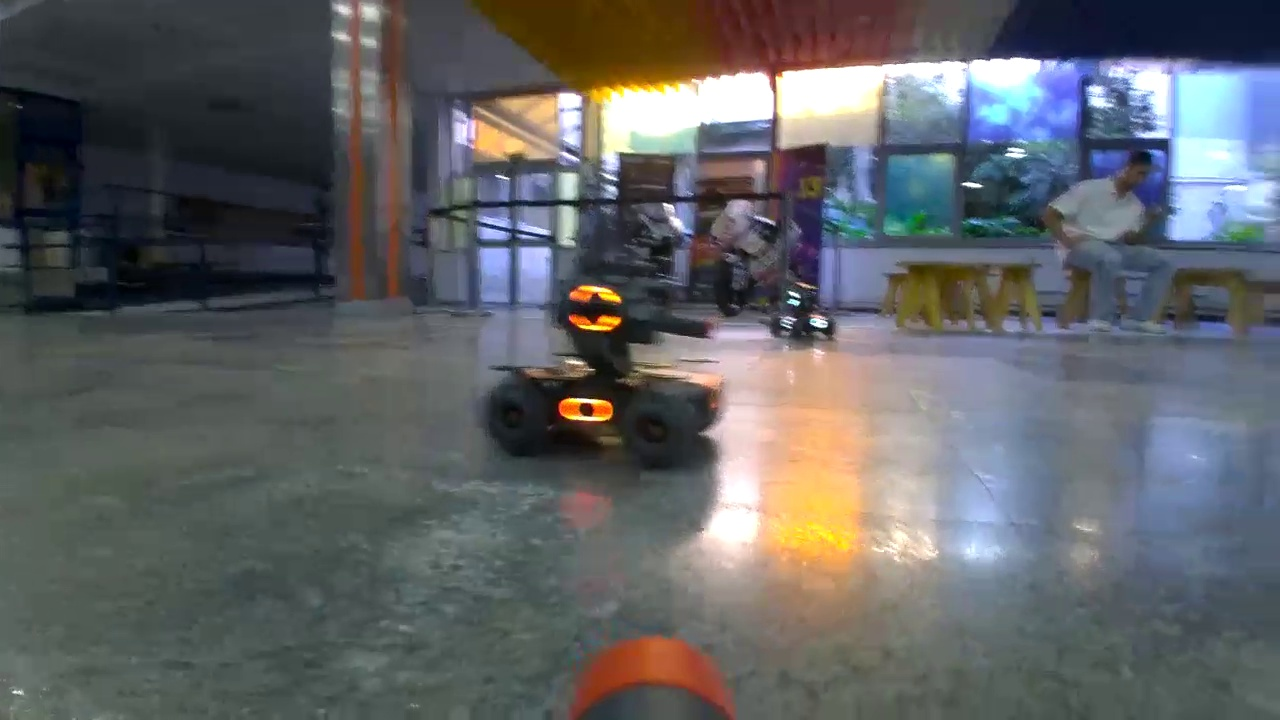robot: (483, 280, 725, 468), (768, 300, 835, 340)
